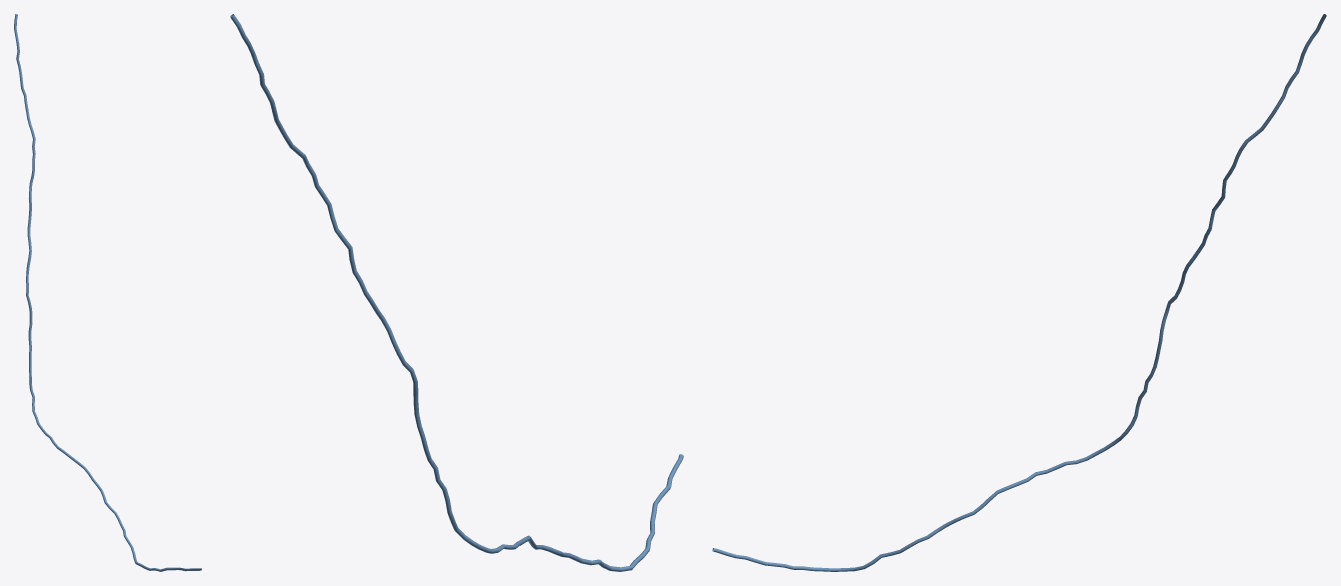
Rendered from sweep210.fbx.
The picture shows the model from 3 angles, left to right: view 1: azimuth 30°, elevation 25°; view 2: azimuth 150°, elevation 25°; view 3: azimuth 270°, elevation 25°; orthographic projection. The views are drawn at different scales.
Parts seen in each view (by area): view 1: sweep210; view 2: sweep210; view 3: sweep210.
Part boxes in pixels (bbox=[...]): sweep210: bbox=[14, 14, 201, 571]; sweep210: bbox=[230, 14, 683, 571]; sweep210: bbox=[712, 14, 1326, 571].
Bounding box in the file's own units: 0.5193 × 3.39 × 3.2.
